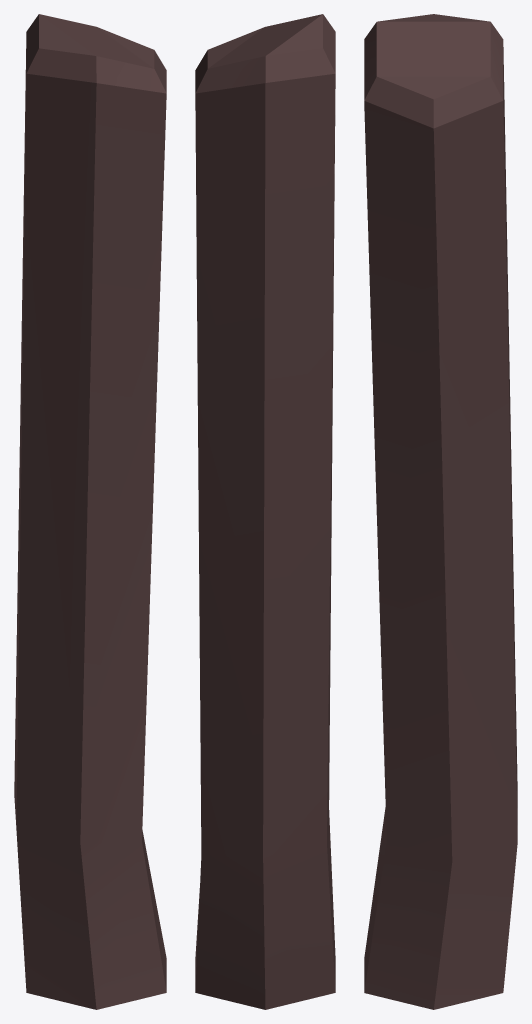
The model's file is wood_5.FBX.
3 renders of one model, left to right at view 1: azimuth 30°, elevation 25°; view 2: azimuth 150°, elevation 25°; view 3: azimuth 270°, elevation 25°, orthographic.
Visible parts, largest first — view 1: wood_5; view 2: wood_5; view 3: wood_5.
Part boxes in pixels (box(x1,y1,x2,y2)): wood_5: box(14, 14, 166, 1009); wood_5: box(195, 14, 335, 1009); wood_5: box(364, 14, 517, 1009).
Bounding box in the file's own units: 5.67 × 36.42 × 5.39.
